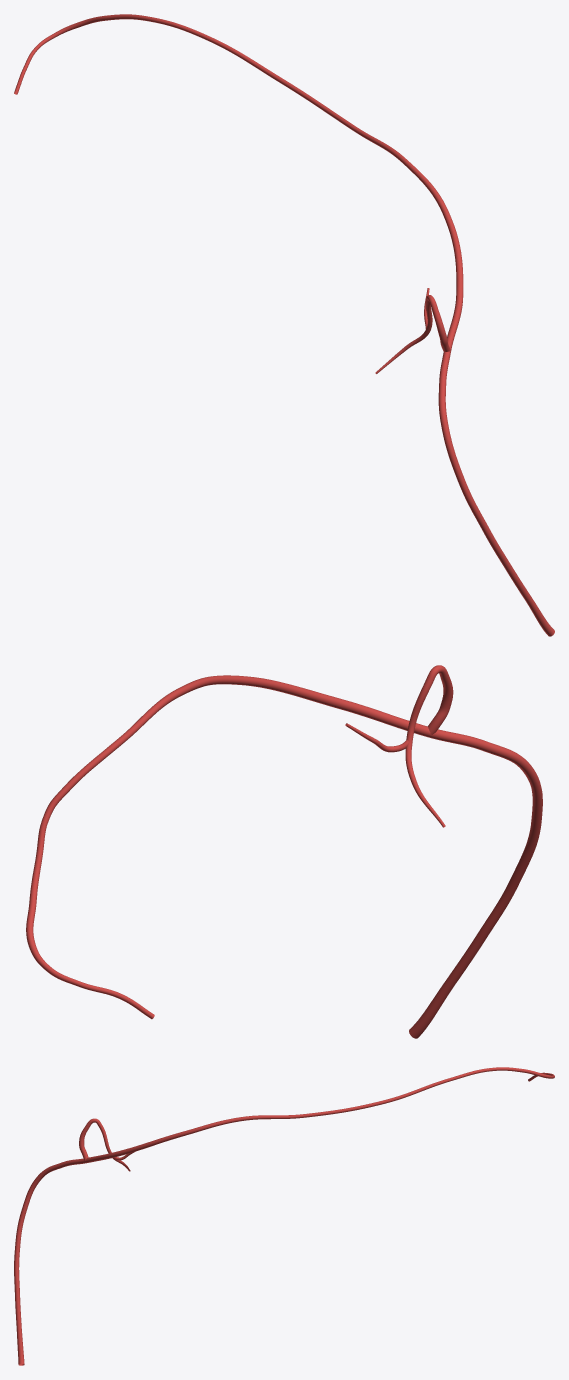
The picture shows the model from 3 angles, top to bottom: view 1: azimuth 30°, elevation 25°; view 2: azimuth 150°, elevation 25°; view 3: azimuth 270°, elevation 25°; orthographic projection. The views are drawn at different scales.
Parts seen in each view (by area): view 1: 右侧颈横动脉深支; view 2: 右侧颈横动脉深支; view 3: 右侧颈横动脉深支.
Part boxes in pixels (<box>): 右侧颈横动脉深支: <box>14,14,554,636</box>; 右侧颈横动脉深支: <box>26,665,542,1038</box>; 右侧颈横动脉深支: <box>14,1067,554,1365</box>.
Size of the model in its own units: 0.0757 by 0.1479 by 0.2628.
